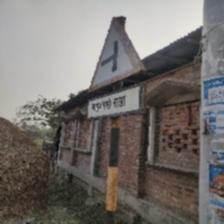Animal: (85, 7, 148, 120)
